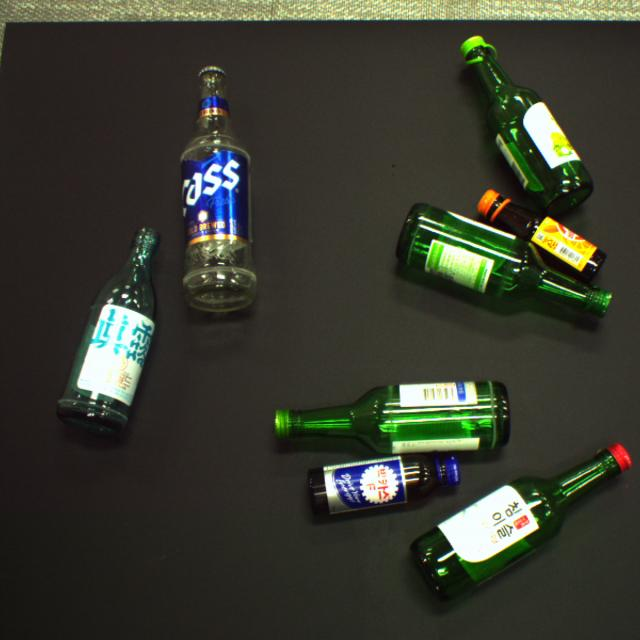beer-bottle: (179, 66, 258, 314)
soju-bottle: (409, 443, 632, 603), (397, 204, 613, 318), (460, 36, 593, 218), (56, 227, 158, 437), (274, 381, 512, 455)
